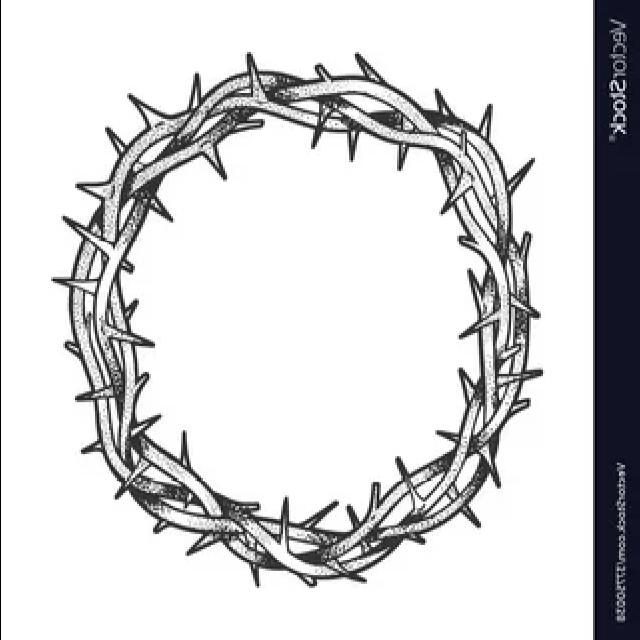crown: (49, 34, 540, 592)
